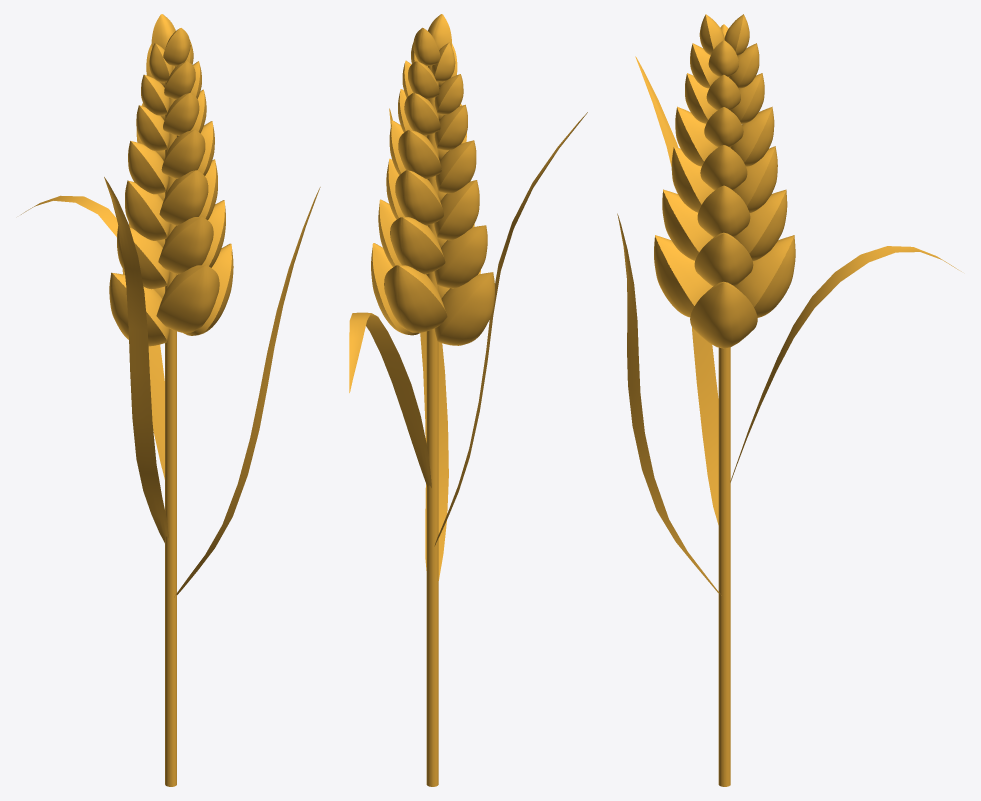
The model's file is Wheat.fbx.
3 renders of one model, left to right at view 1: azimuth 30°, elevation 25°; view 2: azimuth 150°, elevation 25°; view 3: azimuth 270°, elevation 25°, orthographic.
Visible parts, largest first — view 1: Cylinder.001; view 2: Cylinder.001; view 3: Cylinder.001.
Boxes of the visible parts, <box> form: Cylinder.001: <box>21,14,320,786</box>; Cylinder.001: <box>349,14,587,786</box>; Cylinder.001: <box>617,14,961,786</box>.
Bounding box in the file's own units: 27.46 × 96.29 × 39.61.
